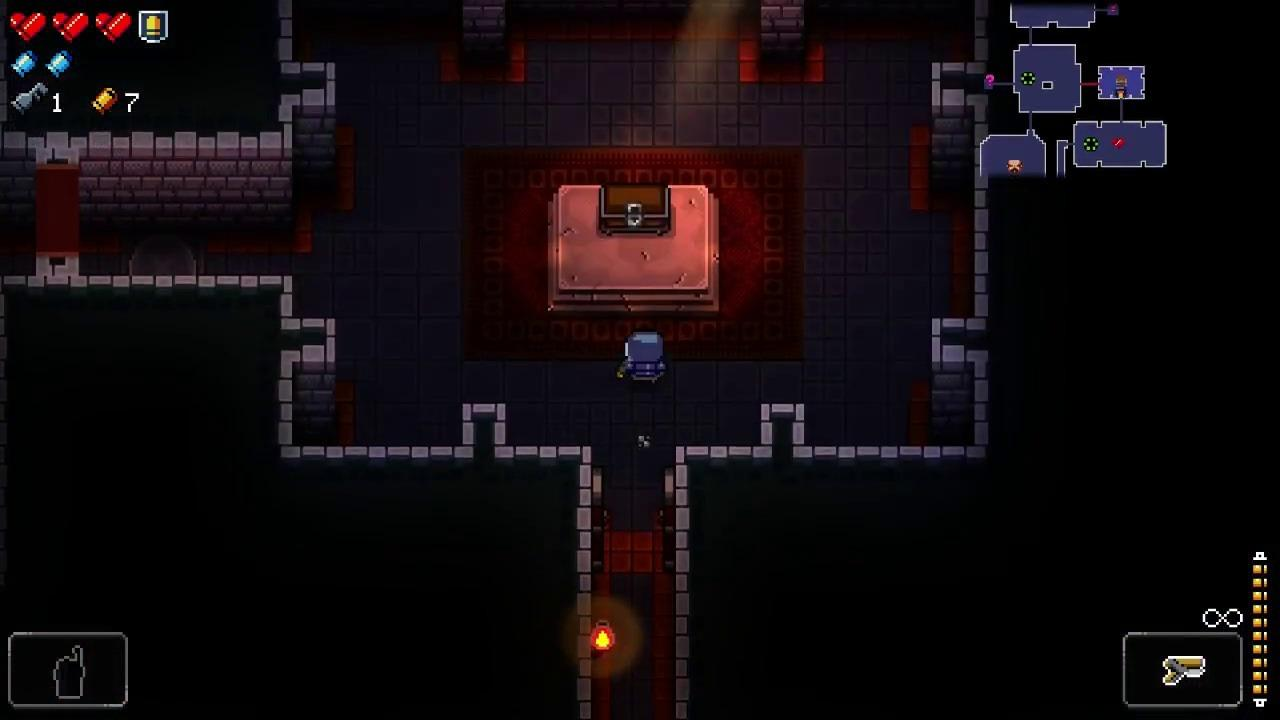blocked_door: (36, 149, 81, 276)
brown_chest: (601, 182, 671, 238)
player: (627, 330, 664, 385)
pressure_plate: (122, 225, 204, 276)
unlocked_door: (590, 466, 604, 575), (664, 468, 675, 575)
